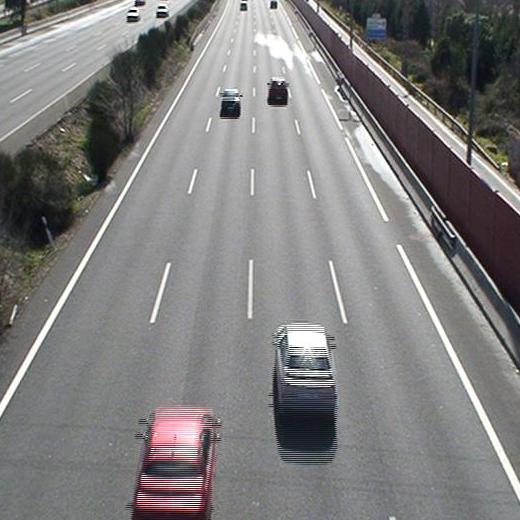car: (134, 407, 216, 520), (273, 321, 336, 420), (266, 77, 289, 106), (220, 88, 242, 117)
